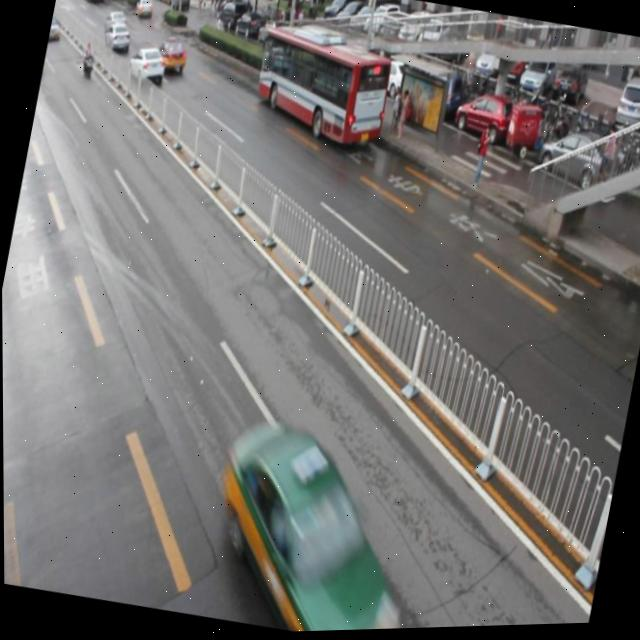car: (198, 419, 420, 635), (126, 44, 169, 90)
van: (248, 23, 395, 155)
